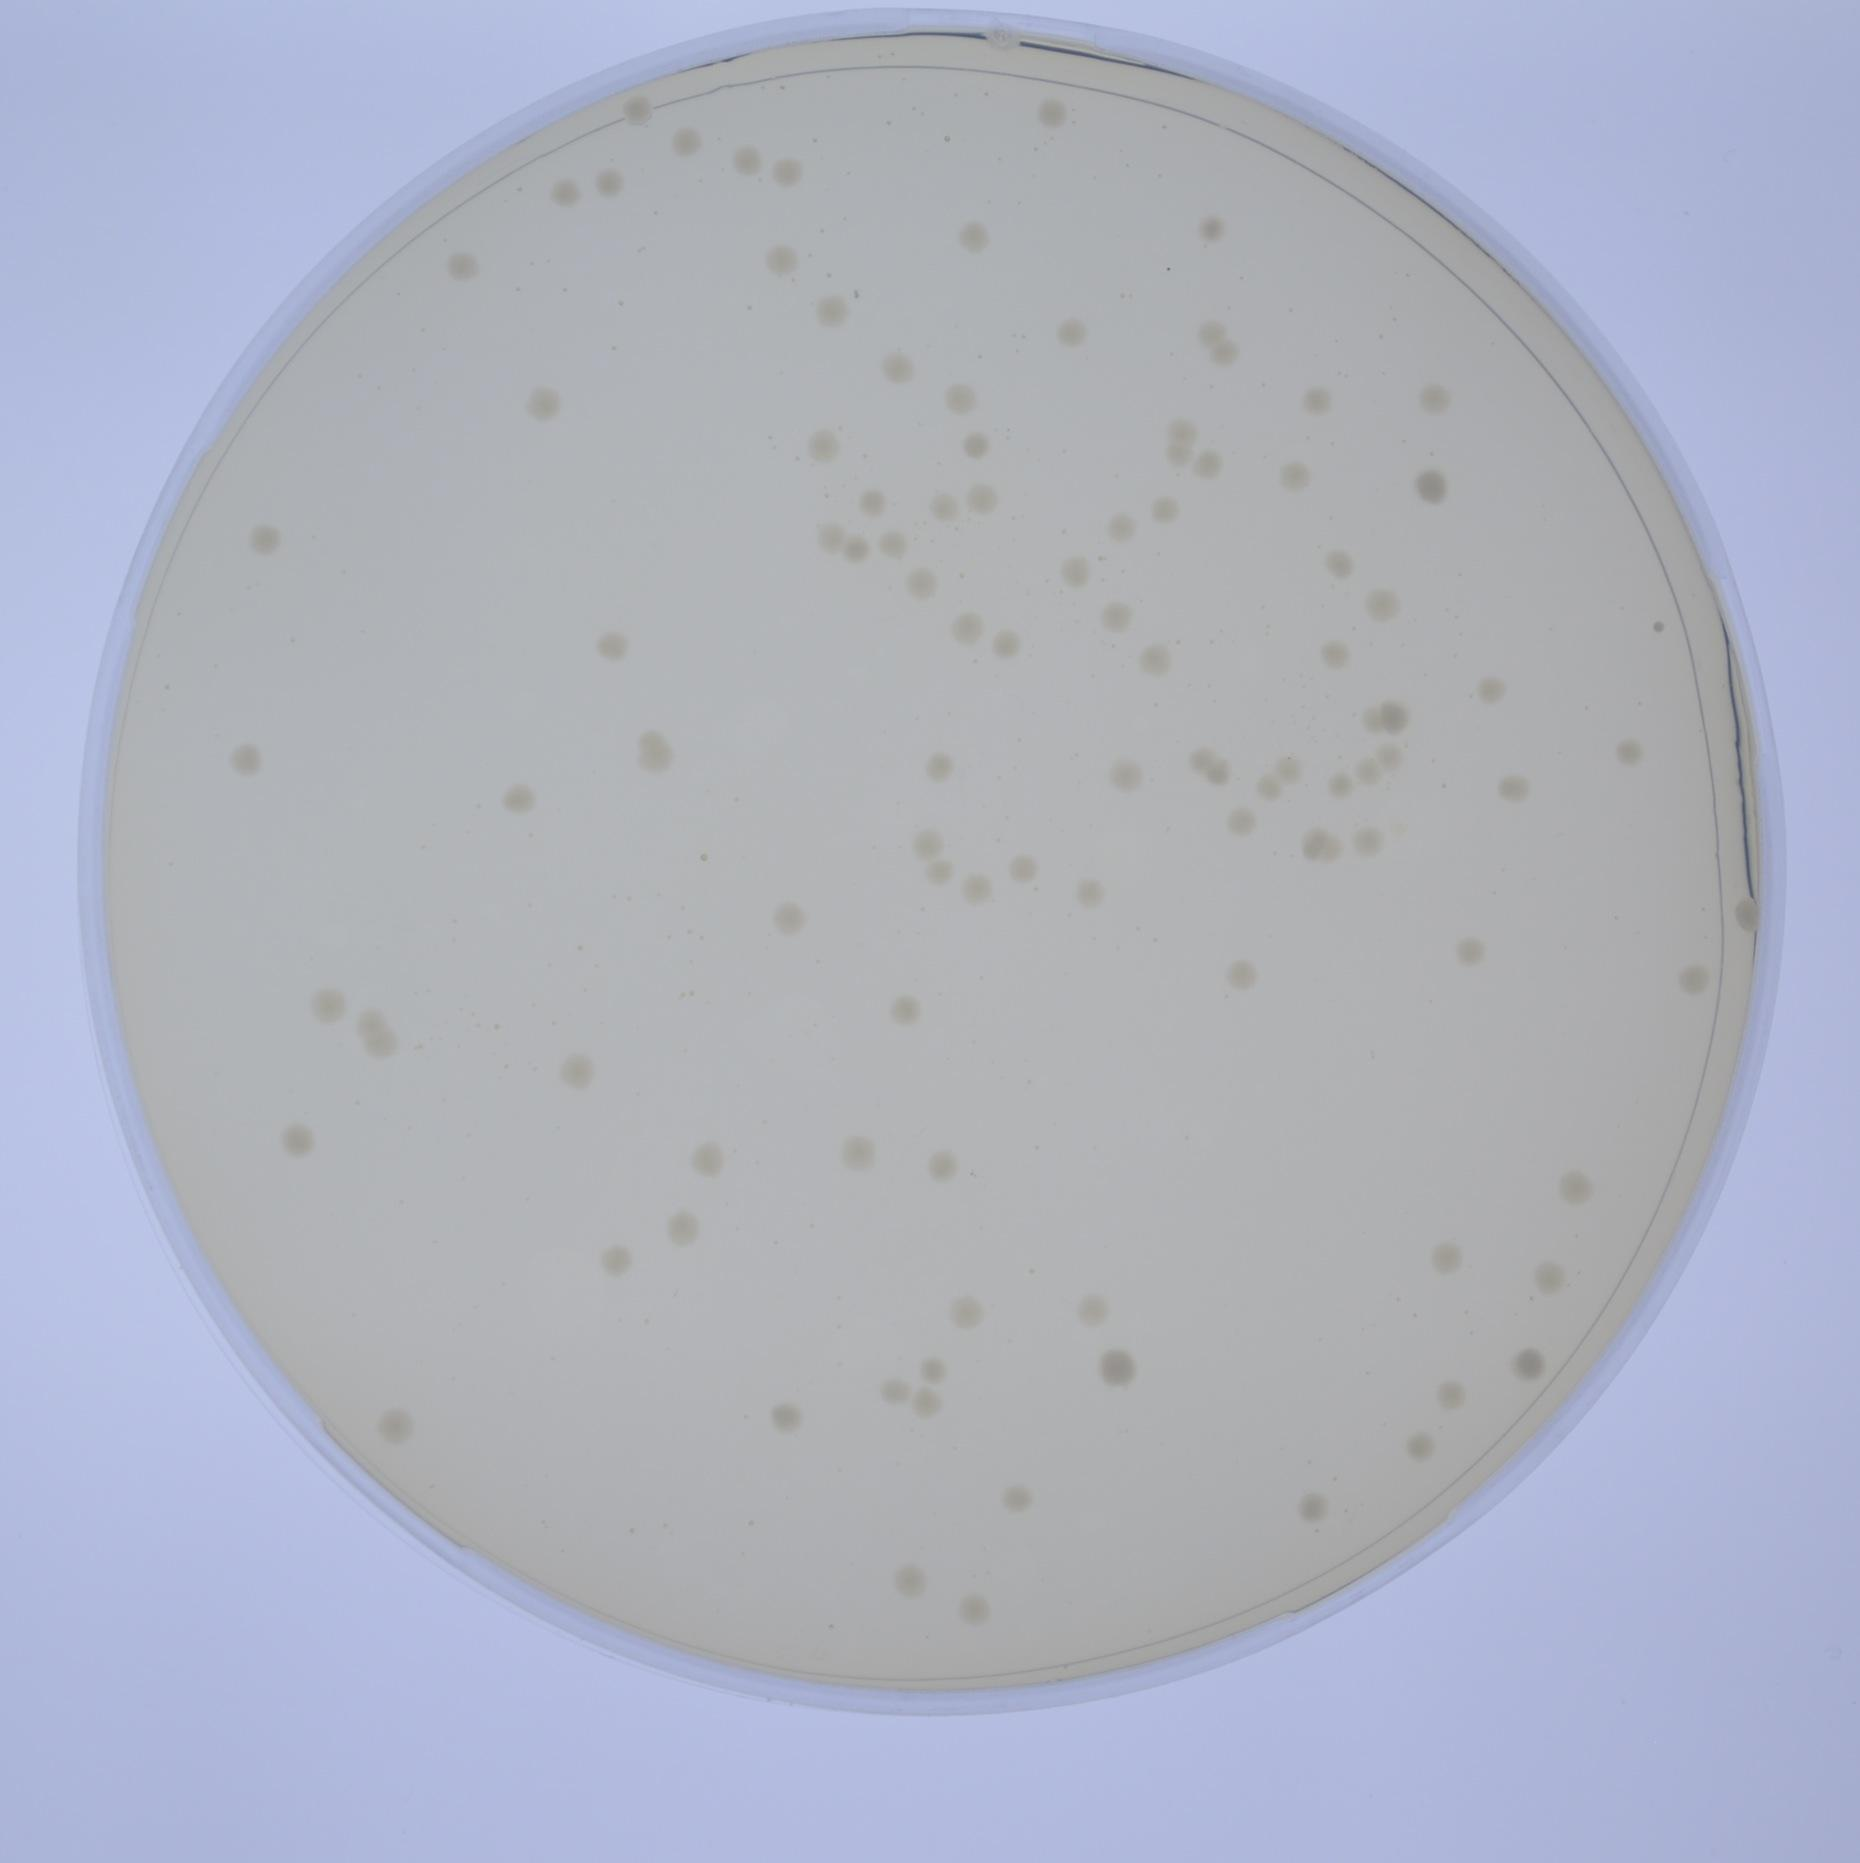colony: (806, 286, 864, 341), (758, 1393, 816, 1447), (916, 1136, 971, 1192), (680, 1132, 741, 1182), (552, 1044, 605, 1100), (221, 736, 281, 785), (520, 378, 572, 429), (1552, 1161, 1606, 1211), (899, 1379, 954, 1427), (755, 237, 811, 283), (1414, 460, 1463, 511), (1446, 925, 1497, 974), (663, 1204, 712, 1255), (1506, 1337, 1555, 1388), (939, 1289, 991, 1337), (266, 1117, 322, 1161), (1027, 87, 1076, 136), (1090, 1344, 1140, 1393), (370, 1400, 419, 1449), (872, 344, 923, 392), (1521, 1250, 1572, 1298), (1272, 451, 1322, 499), (1359, 581, 1409, 628), (1291, 1483, 1340, 1531), (439, 242, 491, 288), (935, 376, 988, 421), (588, 158, 637, 204), (882, 1555, 932, 1601), (1421, 1233, 1470, 1279), (1138, 635, 1182, 686), (761, 894, 812, 938), (722, 140, 777, 181), (1138, 482, 1184, 530), (838, 1127, 884, 1175), (1320, 538, 1364, 588), (1727, 891, 1771, 940), (950, 1587, 1000, 1631), (238, 519, 288, 564), (591, 1238, 642, 1281), (870, 519, 916, 565), (1489, 763, 1535, 809), (492, 778, 538, 824), (1048, 310, 1095, 354), (589, 622, 637, 666), (305, 979, 349, 1027), (1673, 955, 1715, 1005), (952, 211, 996, 257), (1216, 950, 1262, 995), (795, 426, 843, 468), (988, 620, 1030, 668), (766, 148, 816, 189), (664, 123, 717, 160), (1346, 819, 1390, 863), (993, 1476, 1037, 1521), (1398, 1425, 1443, 1470), (1053, 550, 1099, 593), (1313, 628, 1356, 674), (881, 986, 923, 1032), (901, 564, 945, 606), (961, 479, 1007, 519), (916, 746, 962, 787), (915, 851, 962, 891), (1295, 381, 1337, 424), (1269, 746, 1312, 788), (1068, 872, 1111, 914), (545, 172, 588, 215), (954, 424, 998, 465), (1470, 671, 1514, 712), (1075, 1287, 1119, 1328), (1094, 599, 1140, 639), (923, 489, 971, 526), (1000, 850, 1048, 887), (1431, 1374, 1473, 1415), (833, 528, 877, 567), (848, 485, 896, 521), (945, 608, 985, 651), (1318, 763, 1361, 802), (1611, 727, 1649, 771), (1100, 760, 1148, 794), (1102, 511, 1143, 550), (1189, 443, 1228, 484), (1414, 375, 1456, 412), (814, 518, 855, 555), (634, 742, 675, 780), (870, 1376, 913, 1412), (617, 92, 663, 124), (1368, 736, 1407, 773), (1349, 749, 1386, 788), (363, 1023, 400, 1061), (910, 828, 950, 862), (916, 1350, 952, 1388), (956, 872, 995, 906), (1223, 800, 1259, 836), (1194, 211, 1231, 245), (1201, 754, 1235, 790), (1378, 700, 1410, 737), (1194, 315, 1228, 349), (1252, 770, 1288, 800), (354, 1005, 387, 1037), (1185, 742, 1218, 775), (1211, 335, 1242, 370), (1165, 417, 1199, 443), (1167, 439, 1196, 468), (1317, 833, 1344, 863), (635, 725, 668, 751), (1301, 833, 1325, 862), (1359, 705, 1383, 734)
